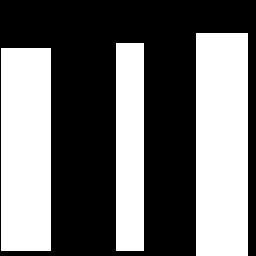person: (196, 33, 247, 256), (1, 48, 50, 250), (116, 43, 143, 250)
